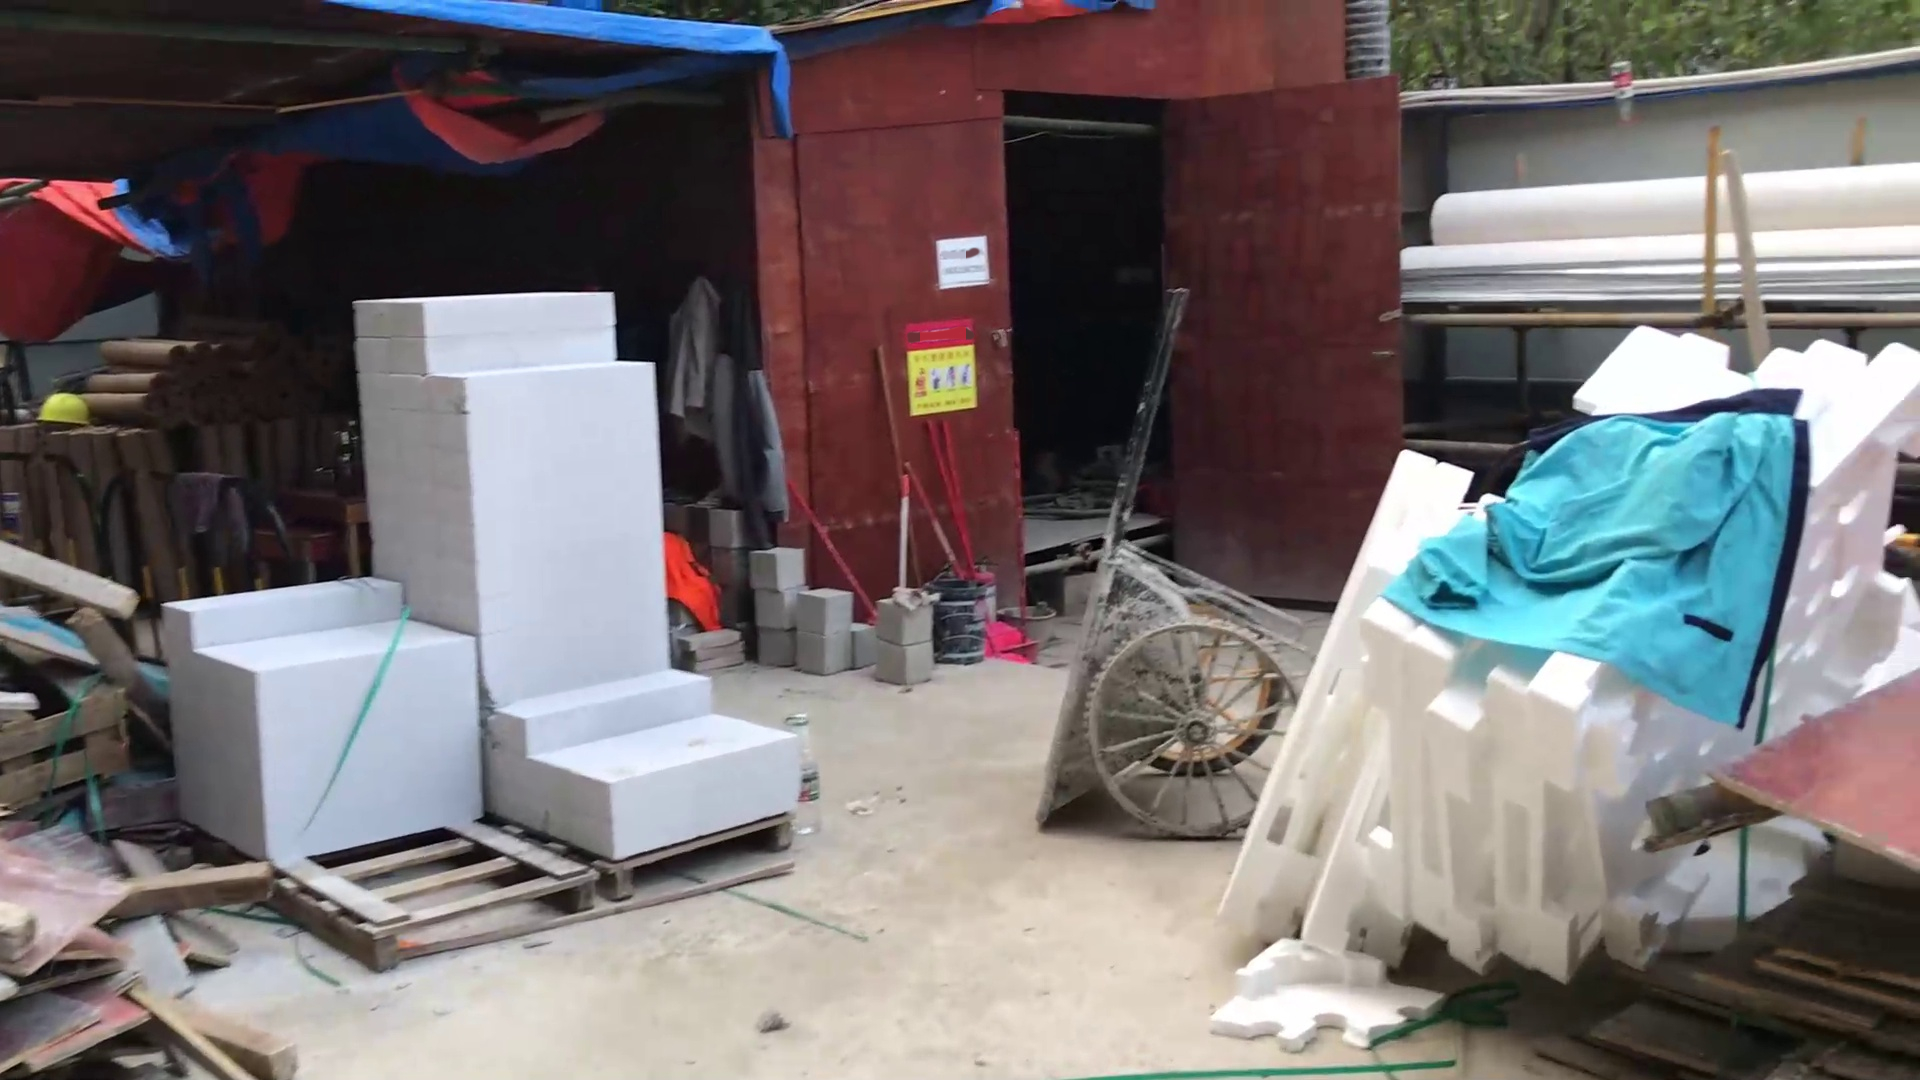brick: (148, 285, 810, 866)
handcart: (1025, 245, 1313, 856)
